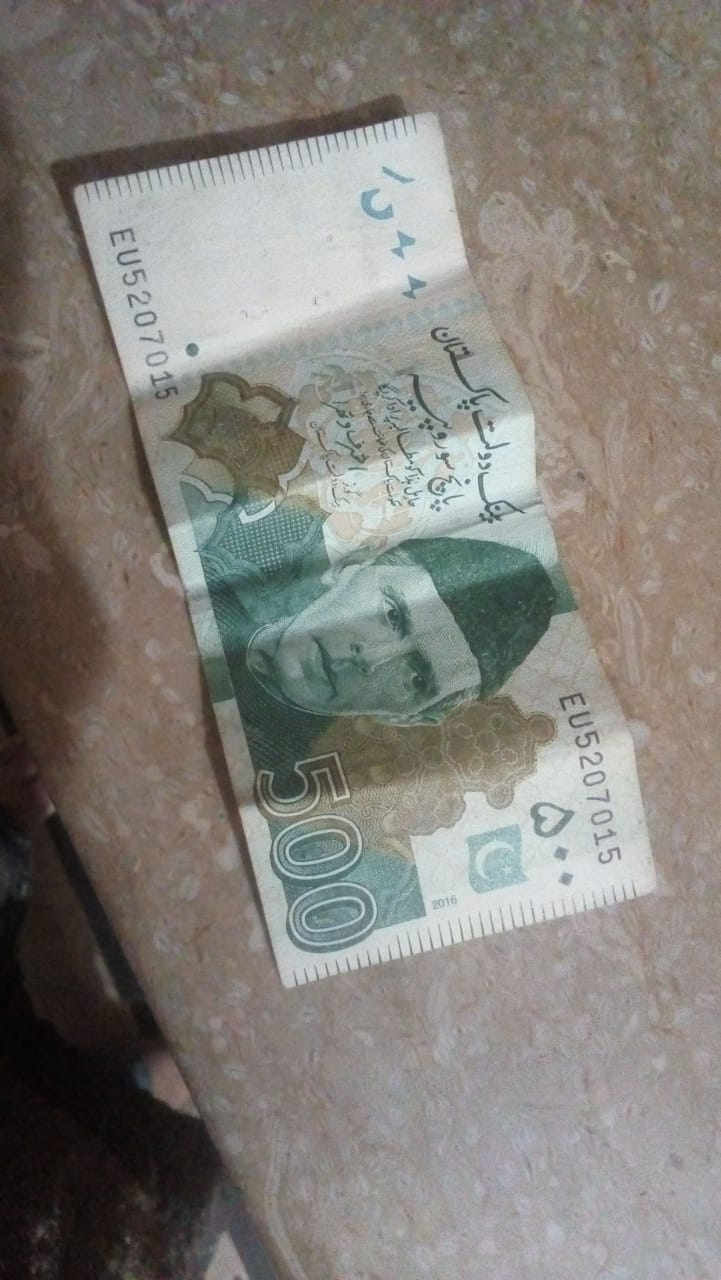500 rupee: (42, 106, 657, 1040)
